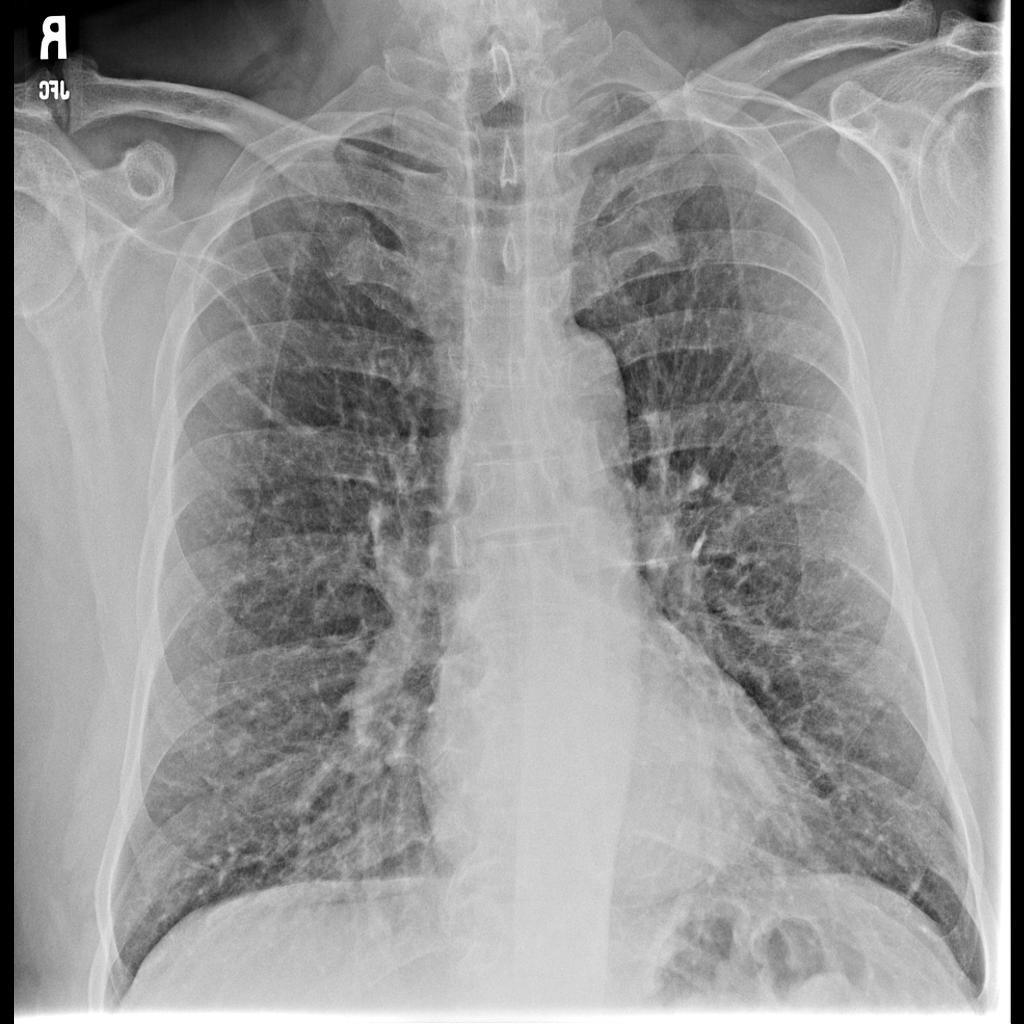Nodule: (215, 721, 262, 764)
